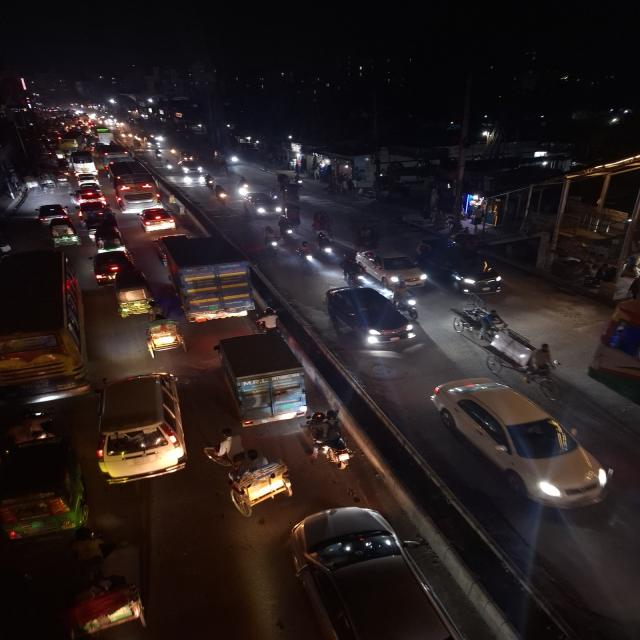bus: (0, 247, 87, 397), (108, 160, 160, 210), (68, 150, 98, 175)
car: (273, 501, 503, 640), (428, 376, 616, 514), (92, 368, 189, 486), (322, 282, 418, 348), (418, 239, 508, 299), (356, 246, 430, 288), (243, 190, 282, 220), (137, 207, 179, 233), (69, 185, 107, 205), (35, 202, 70, 222), (178, 160, 202, 175)
cng: (0, 433, 90, 545), (114, 271, 154, 321), (90, 247, 128, 285), (48, 218, 80, 246), (78, 200, 110, 224)
motorcycle: (302, 408, 361, 476), (447, 303, 514, 349), (517, 342, 564, 390), (313, 229, 337, 263), (260, 225, 284, 256), (296, 238, 316, 269), (278, 214, 296, 242), (212, 182, 229, 205), (236, 174, 252, 196), (201, 172, 215, 188), (163, 159, 174, 171)
rickshaw: (45, 568, 154, 639), (209, 446, 297, 514), (446, 303, 514, 351), (142, 314, 188, 360), (310, 208, 334, 240), (36, 170, 59, 195), (45, 169, 71, 191)
truck: (152, 231, 260, 325), (211, 332, 314, 430), (584, 281, 640, 403)
